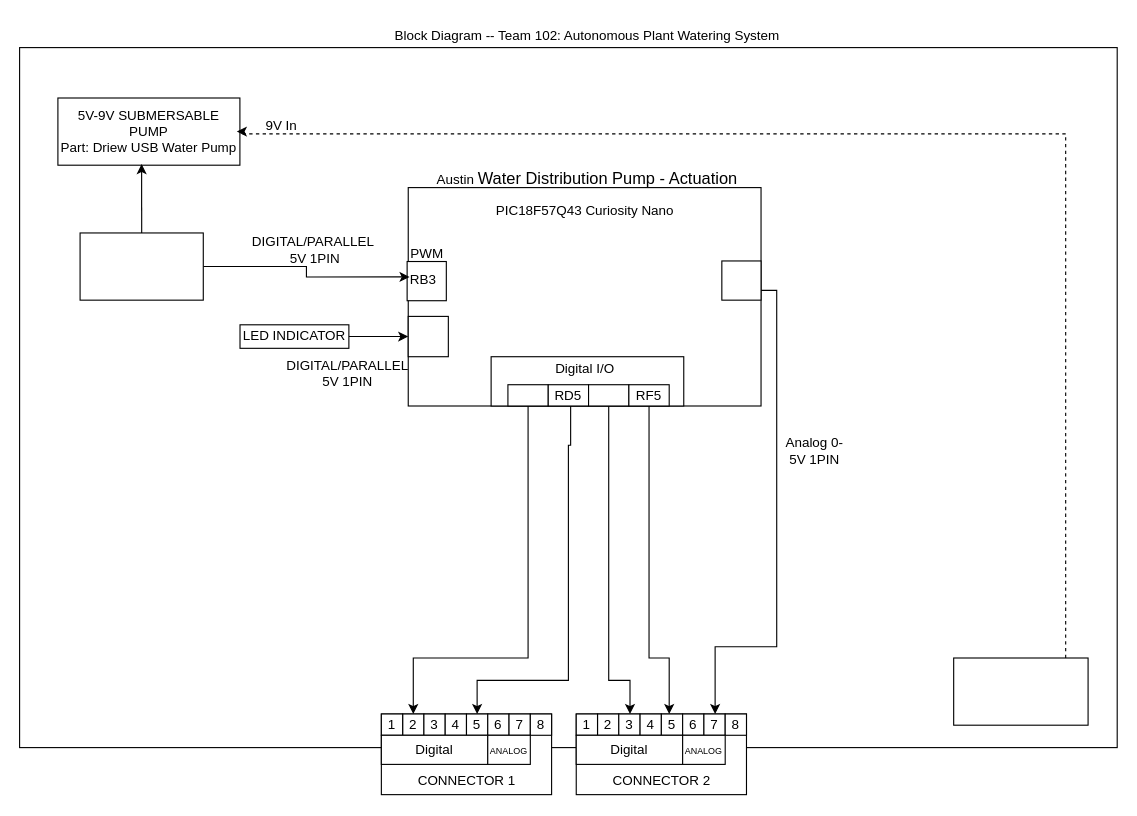
Some shapes in this 1137 by 816 pixel diagram are drawn without their labels. The shapes that lost their labels are listed below. From the top down, each one's centre as x and y in pixels, then its label:
At point 141,266: "MOSFET Part: AOFT2618".
At point 741,280: "RA0".
At point 427,336: "RB1".
At point 527,395: "RF2".
At point 608,395: "RB5".
At point 1020,691: "9V 3A Unregulated Power Supply Part#:XXXX".
